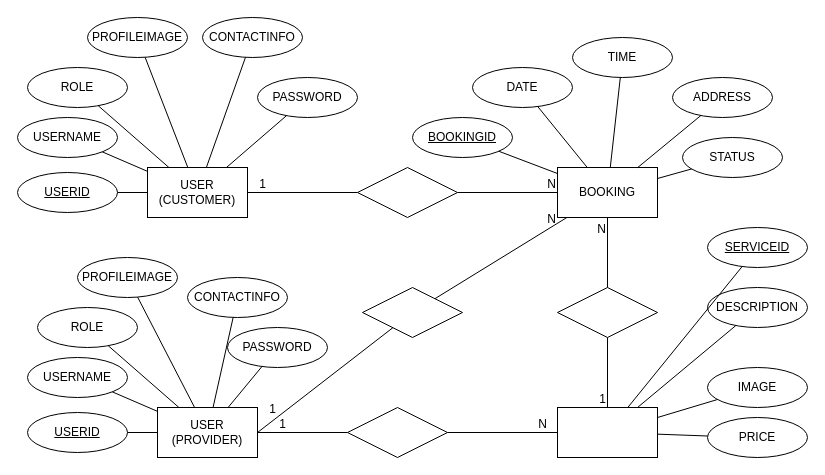
This 825x475 diagram has some shape labels left out. Each missing label, with the box of its shape:
ACCEPTS: (362, 286, 462, 338)
CREATES: (346, 406, 448, 458)
HAS: (556, 286, 658, 338)
MAKES: (356, 166, 458, 218)
SERVICEITEM: (556, 406, 658, 458)
